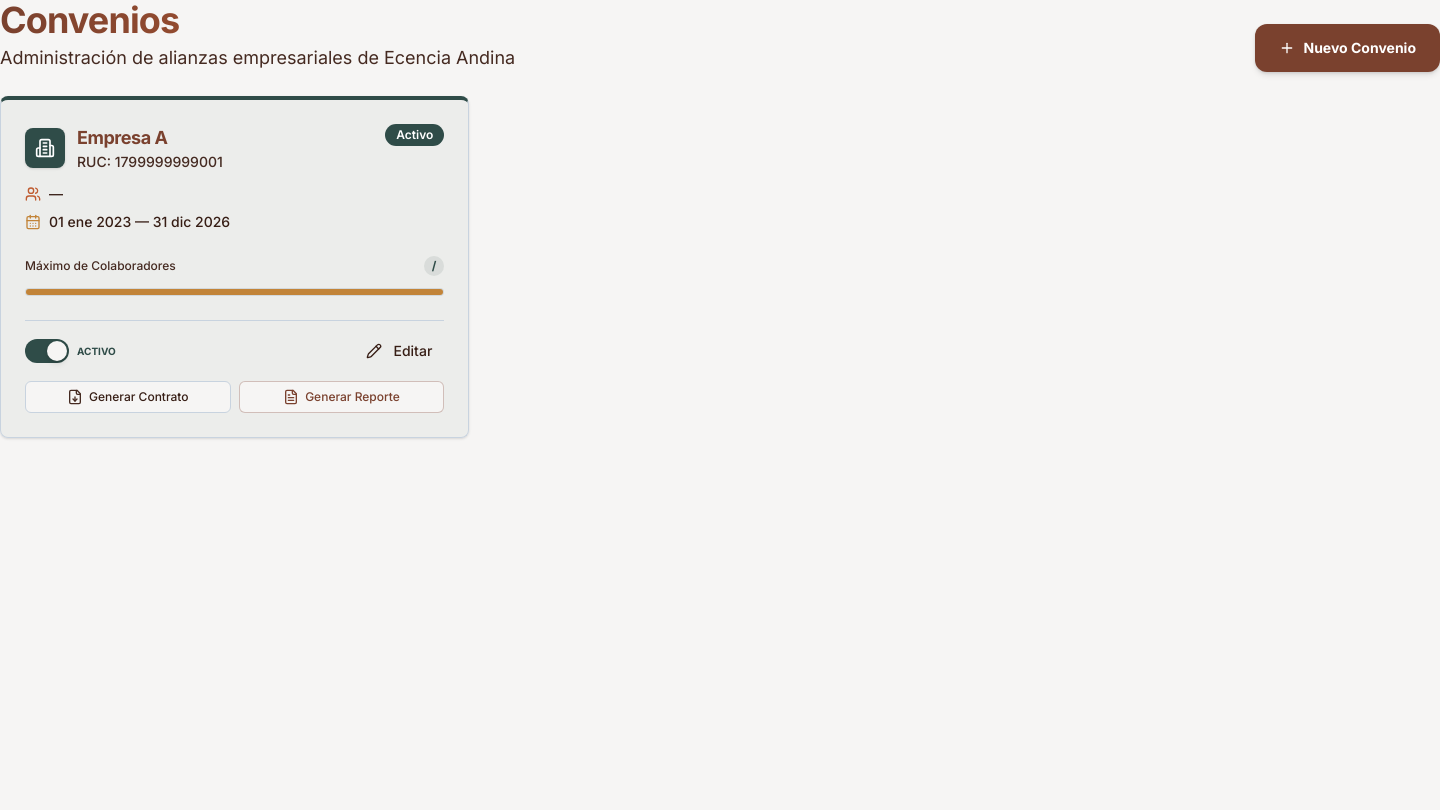
Test case: Convenios › permite generar un reporte de consumos
Click the button "Generar Reporte": (342, 397) [239,381,444,413]
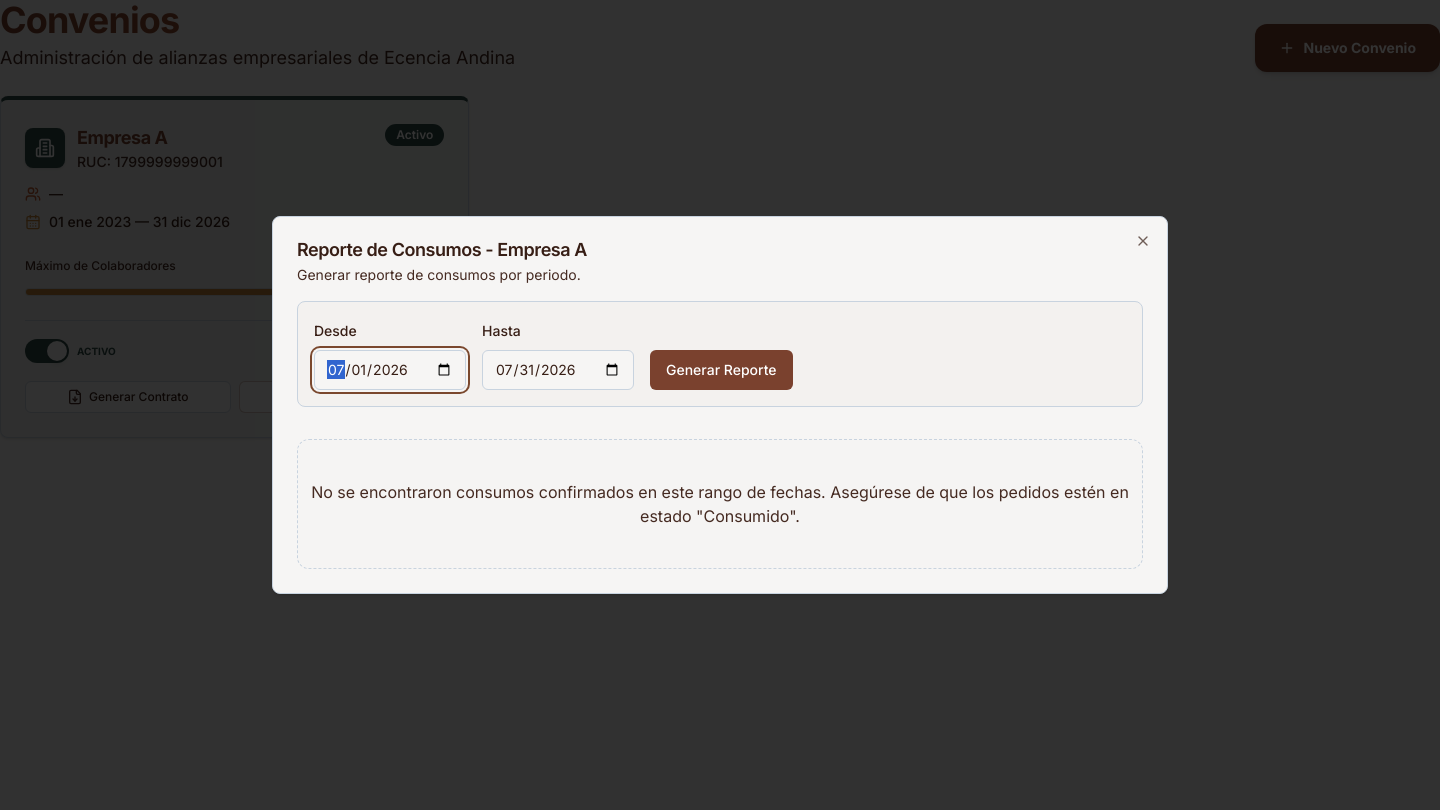
Now the heading "Reporte de Consumos - Empresa A" is shown, box [297,239,587,260]
Click the button "Generar Reporte": (721, 370) [650,350,792,390]
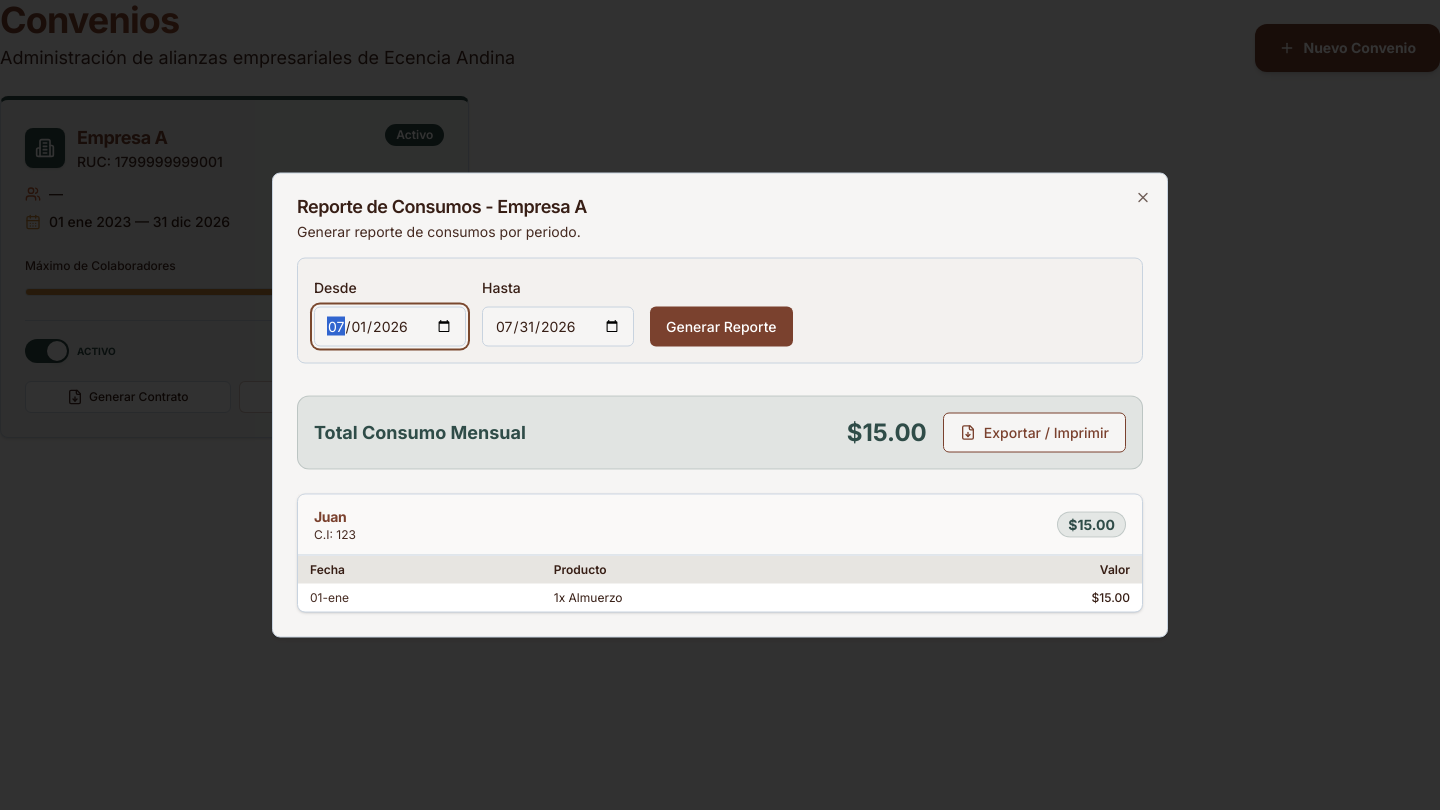
Now the text "Total Consumo Mensual" is shown, box [314,418,526,446]
Now the heading "Juan" is shown, box [314,508,346,524]
